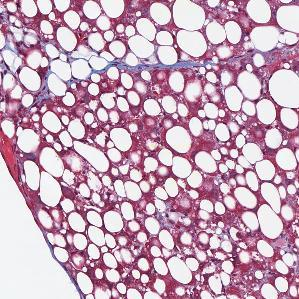fibrosis: (135, 59, 202, 75)
